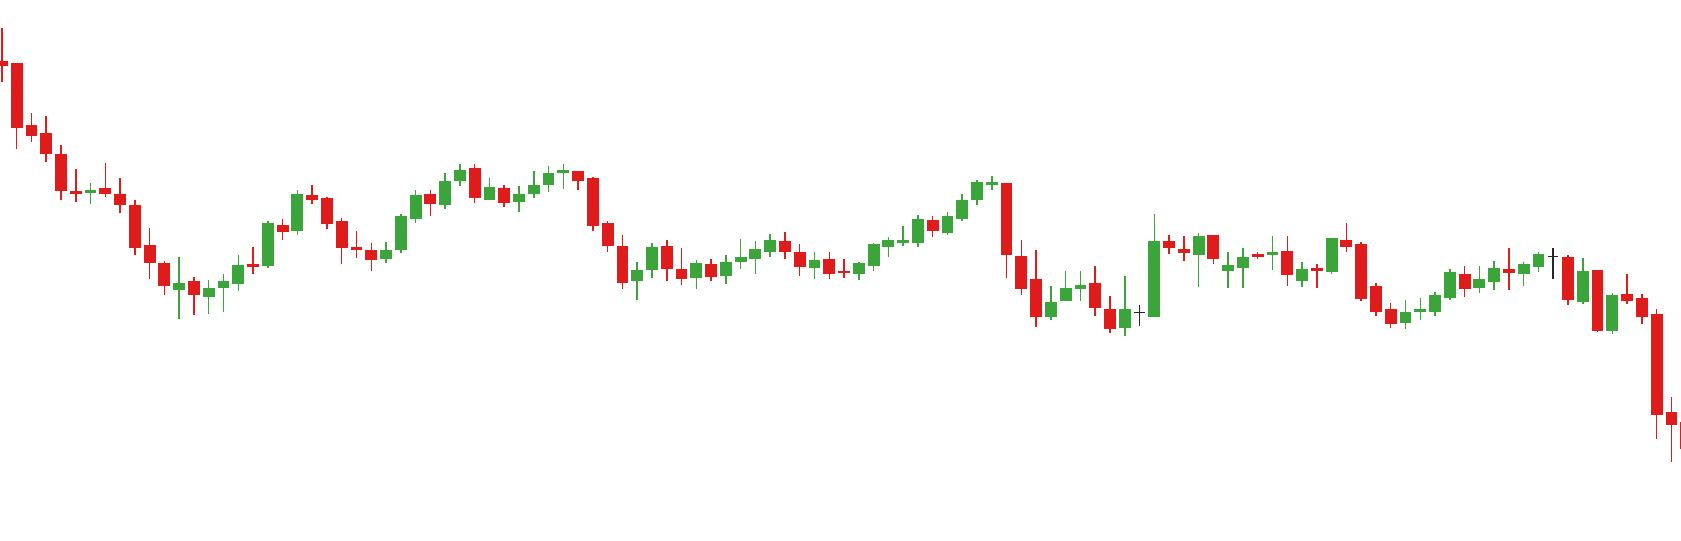buy: (1026, 274, 1133, 344)
